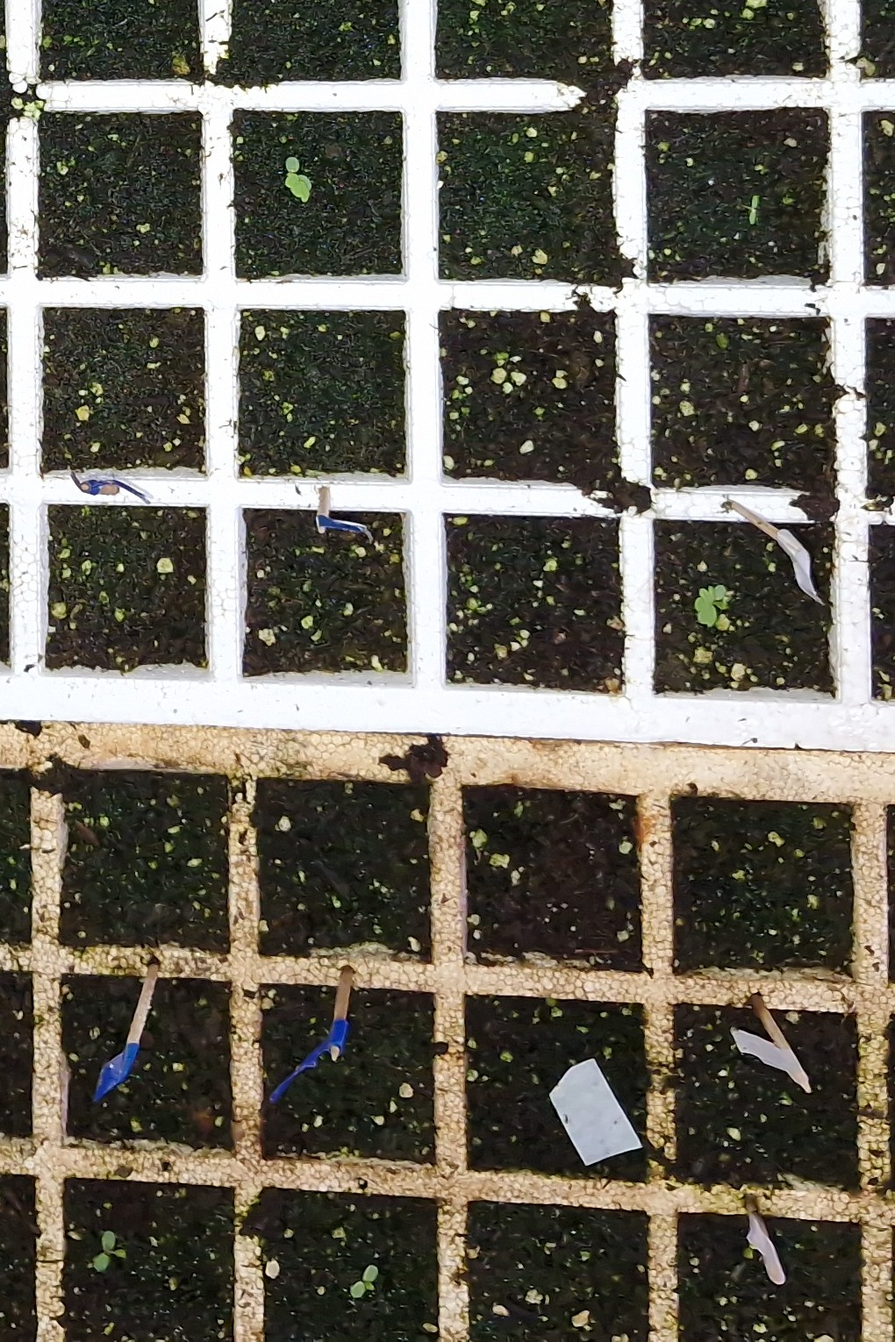Folha: (695, 585, 716, 627), (286, 173, 310, 203), (714, 584, 727, 600), (286, 157, 299, 172), (299, 175, 312, 190)
Germinacao: (695, 585, 728, 627), (285, 156, 312, 204), (743, 195, 760, 225)
